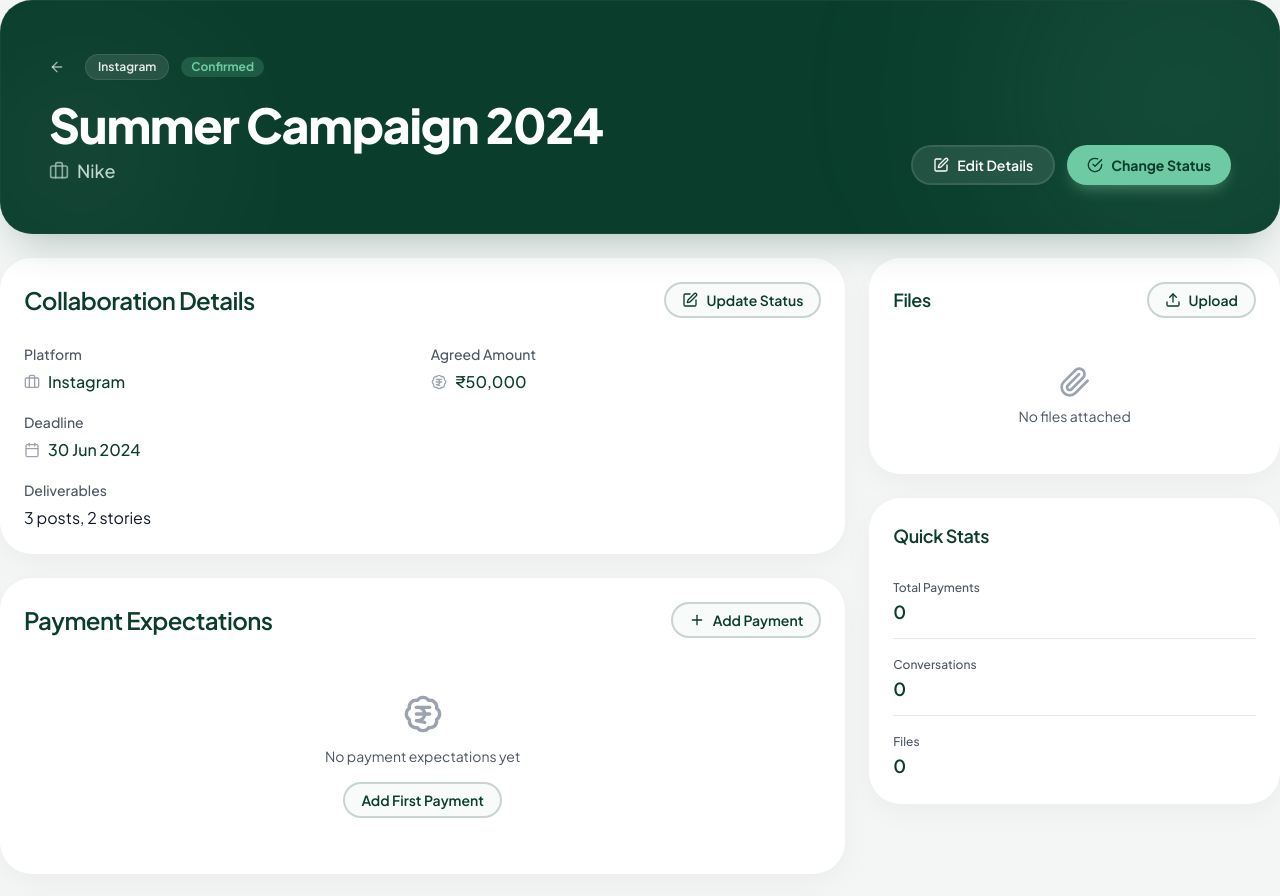
Test case: CollaborationDetailPage › Extra Coverage: Status Update Submits › should show error when update status fails
Expected: the heading "Summer Campaign 2024" is shown, [49, 101, 603, 149]
Step 1. Click the button "Update Status" → click(743, 300), box [664, 282, 821, 318]
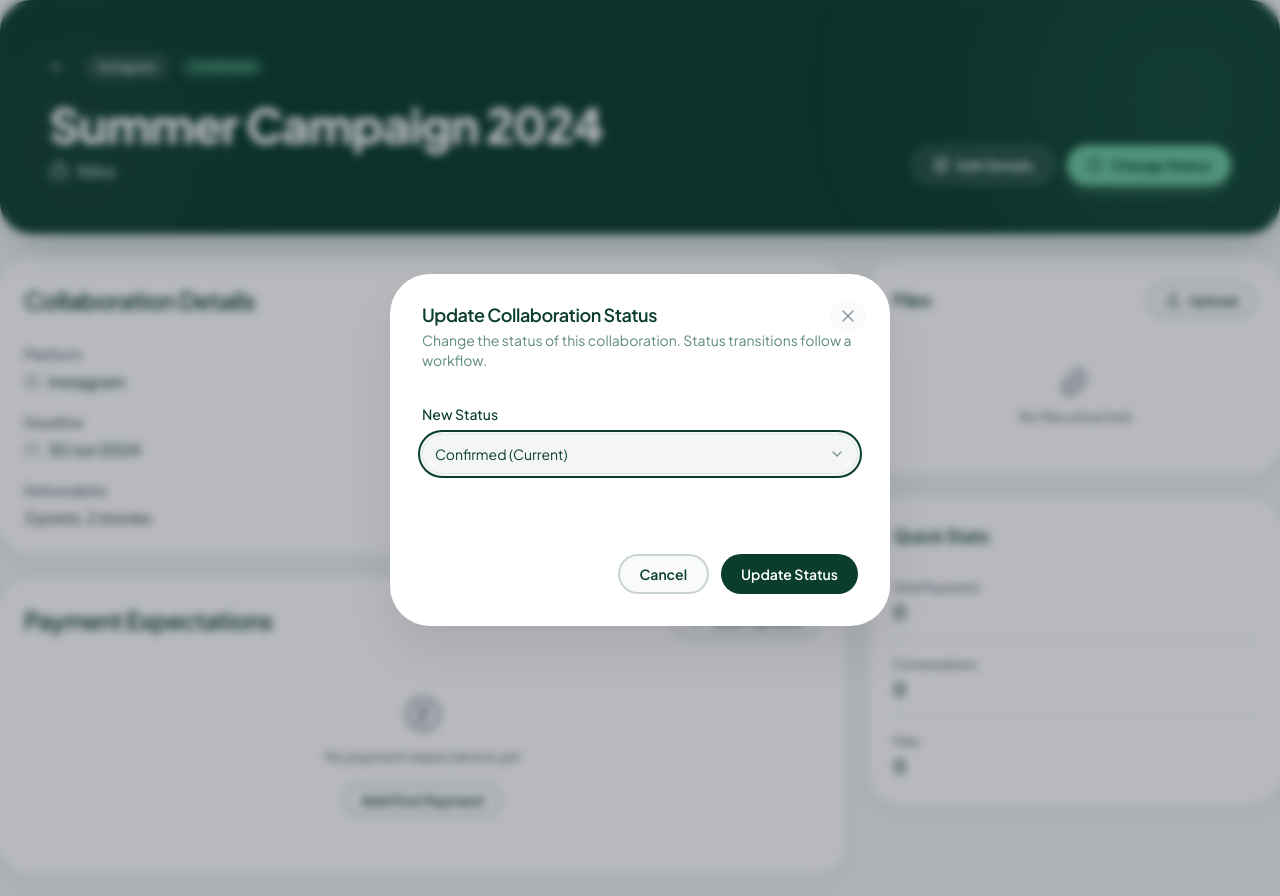
Result: the dialog is shown at [390, 274, 890, 626]
Step 2. Click the button "Update Status" → click(790, 574), box [721, 554, 858, 594]
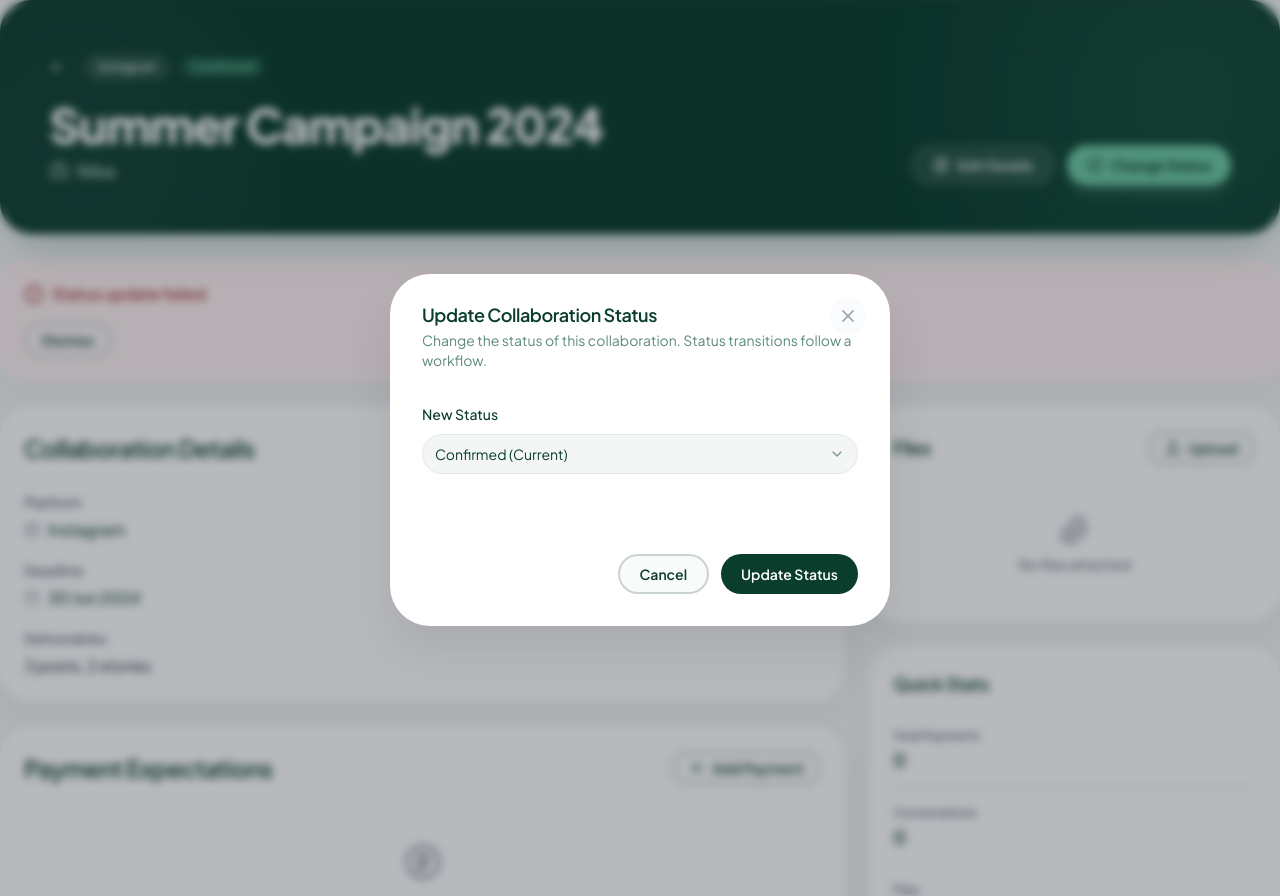
Result: the text "Status update failed" is shown at [52, 282, 206, 306]
Note: Close the dialog first so the error alert is accessible
Step 3. Click the button named "close" → click(848, 316), box [830, 298, 866, 334]
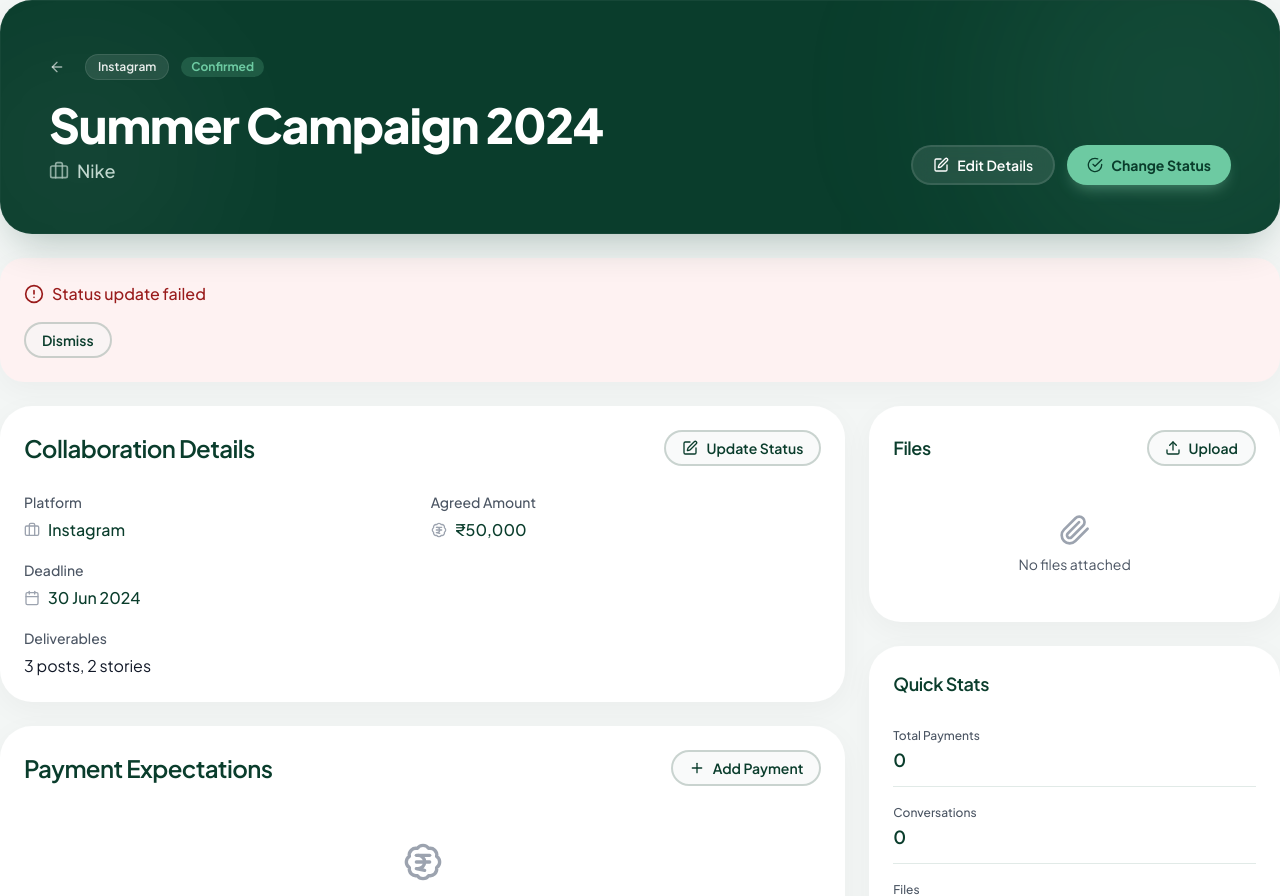
Result: the dialog is gone
Step 4. Click the button "Dismiss" → click(68, 340), box [24, 322, 112, 358]
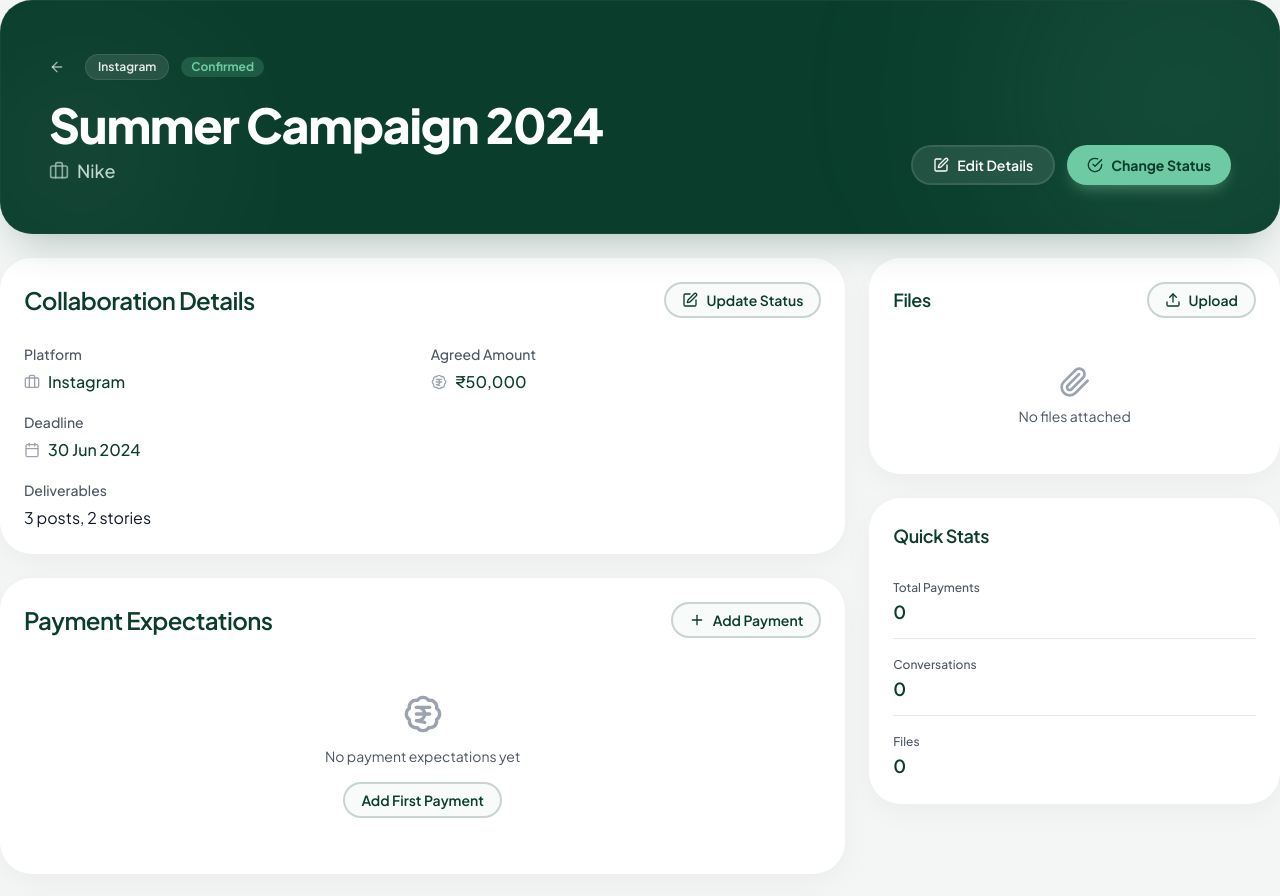
Result: the text "Status update failed" is gone
